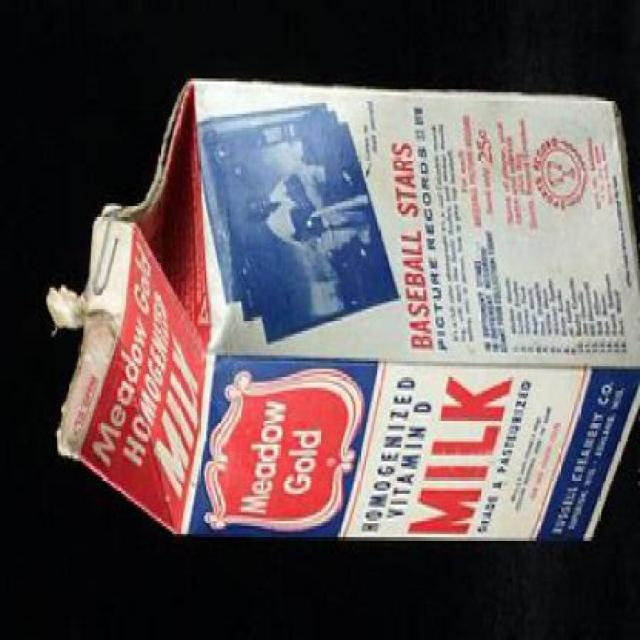non_white_jug: (44, 75, 640, 546)
